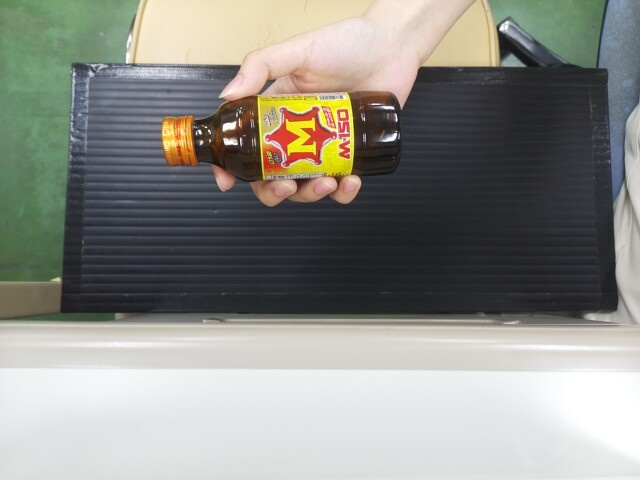glass_bottle: (156, 98, 401, 175)
